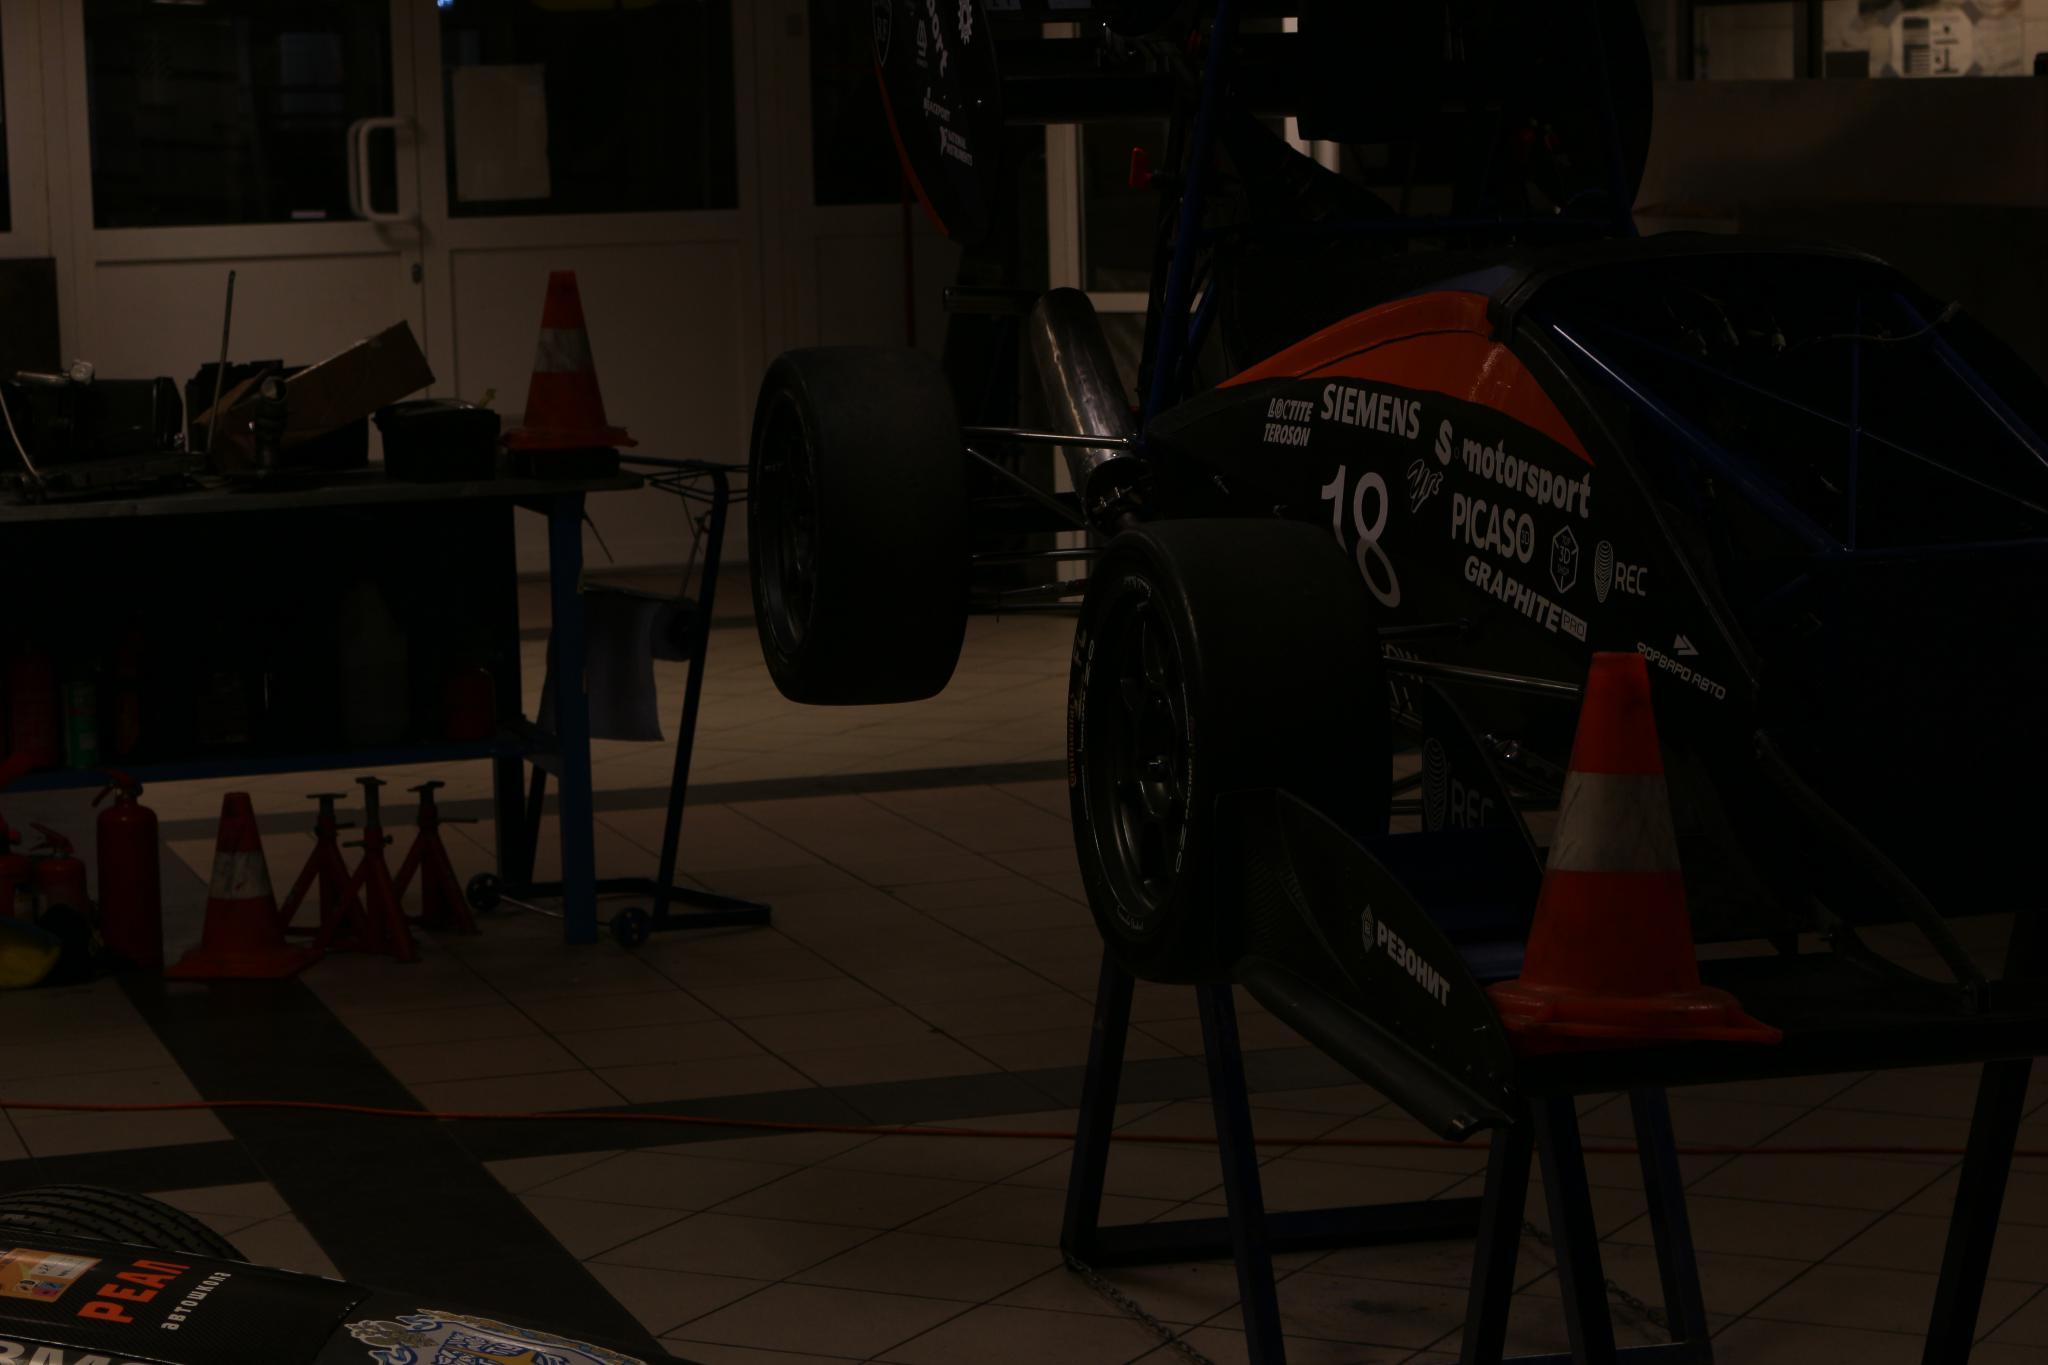Orange_Cone: (1456, 646, 1794, 1056), (143, 783, 317, 986), (483, 264, 646, 456)
